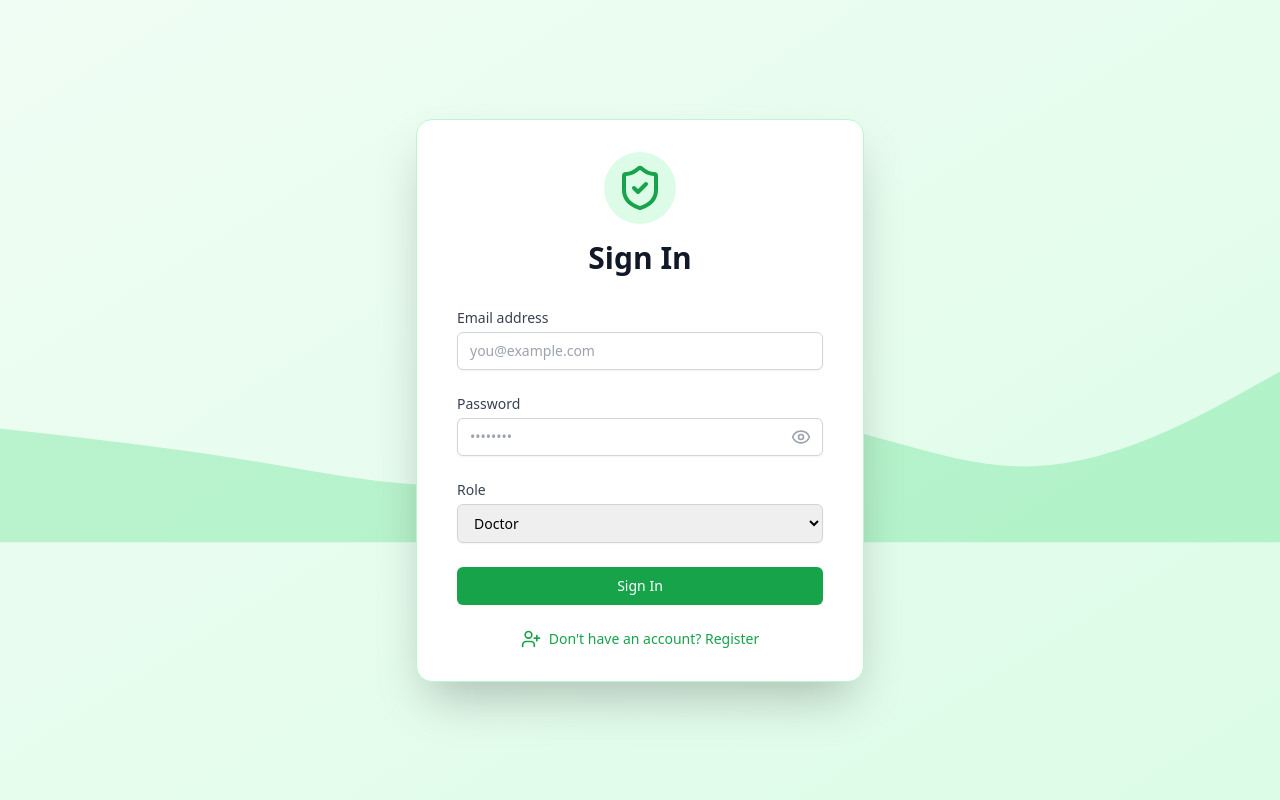
SignIn Component - Comprehensive Test Suite › Error Handling › displays user not found error
The width and height of the screenshot is (1280, 800).
# Fill out form
Type "nonexistent@example.com" into the field labelled "Email address" at x=640, y=350, box x1=457 y1=332 x2=823 y2=370
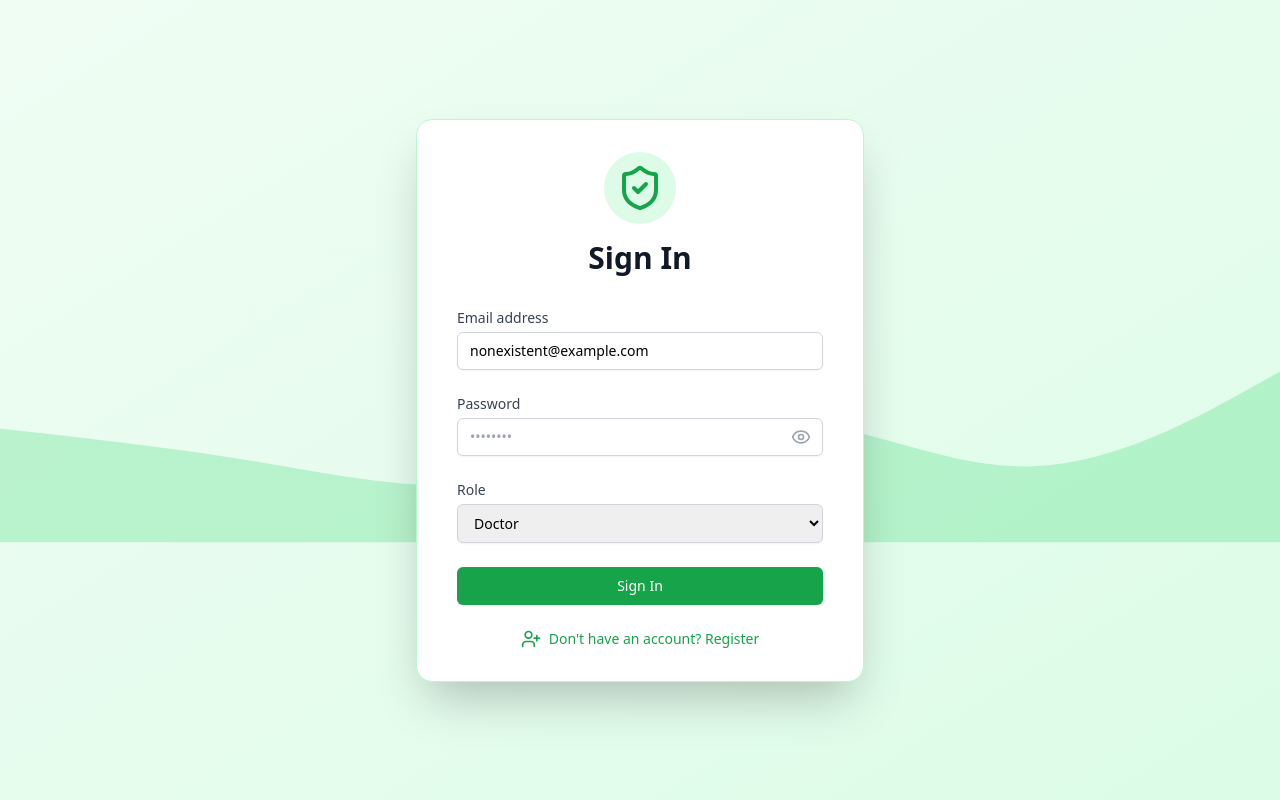
Type "password123" into the password field labelled "Password" at x=640, y=436, box x1=457 y1=418 x2=823 y2=456
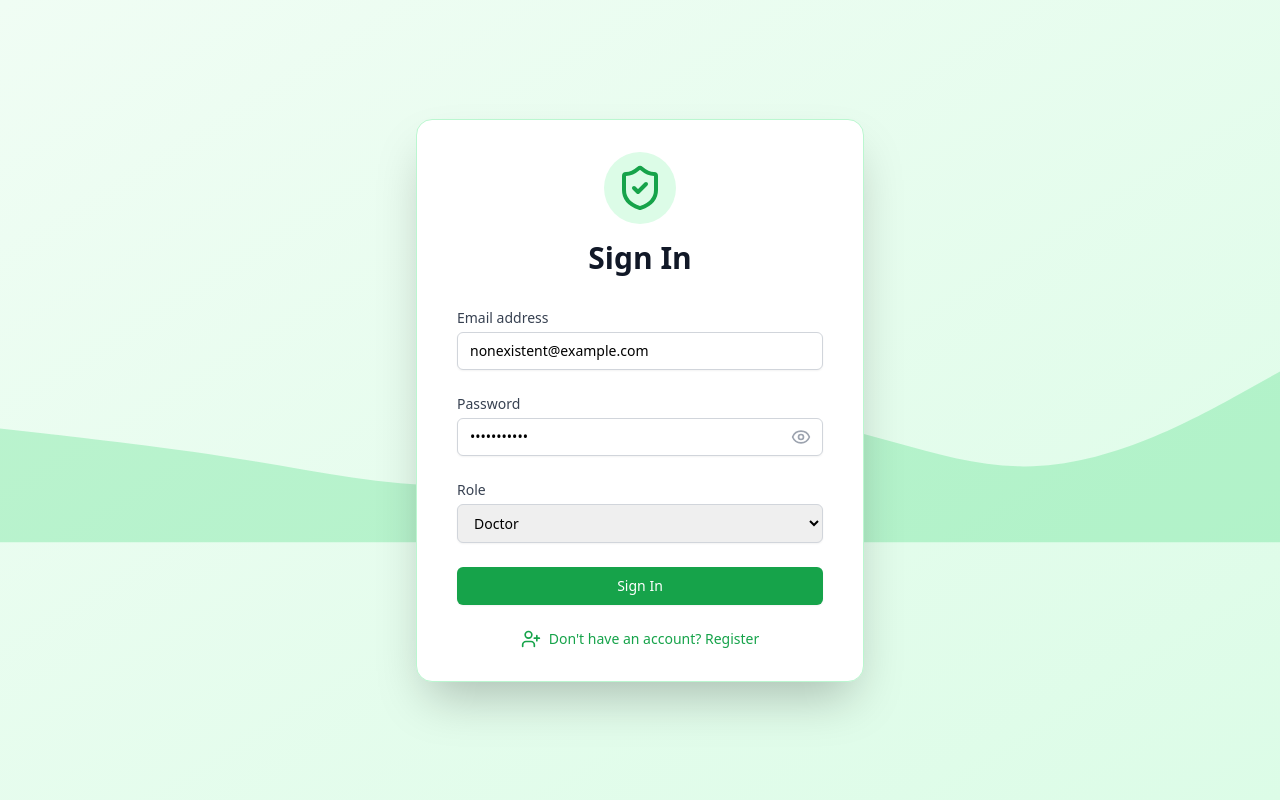
# Submit form
Submit the form from the button "Sign In", box x1=457 y1=566 x2=823 y2=604
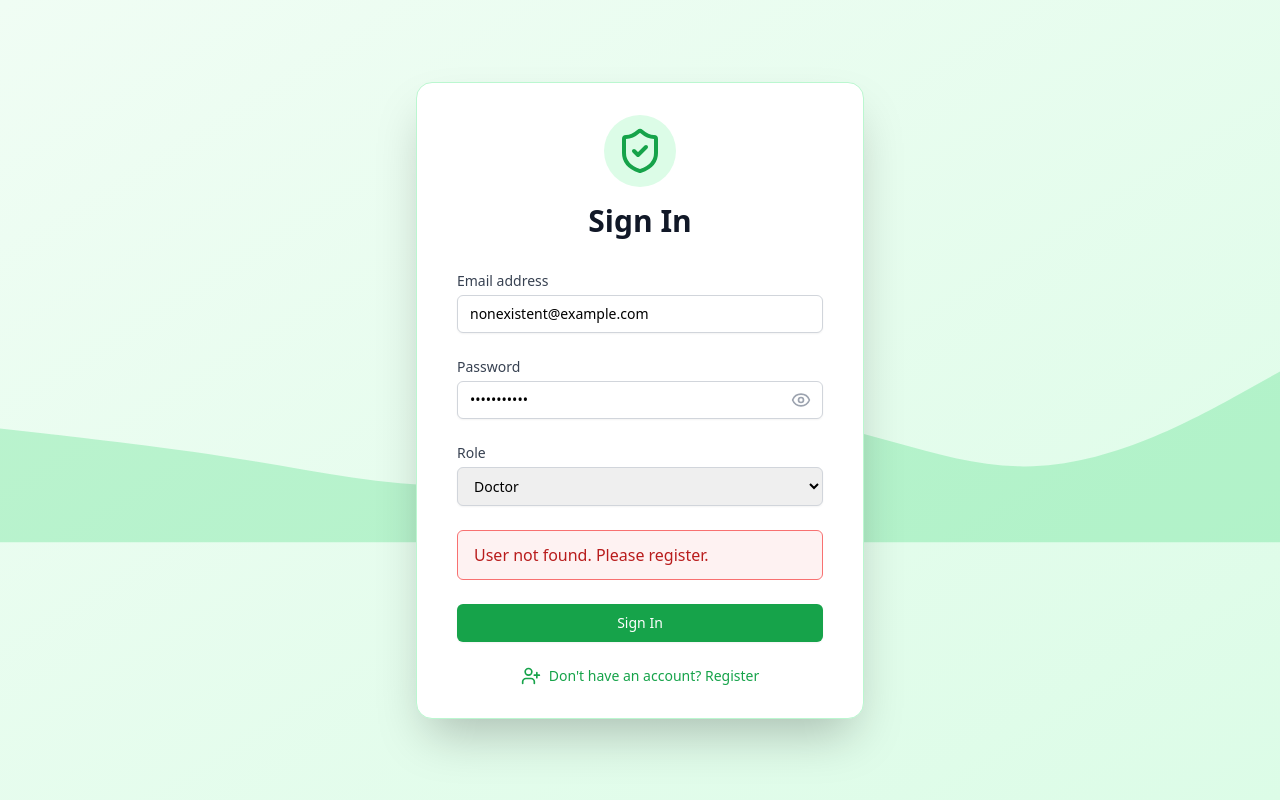
Now the text "User not found. Please register." is shown, box x1=474 y1=544 x2=709 y2=566
